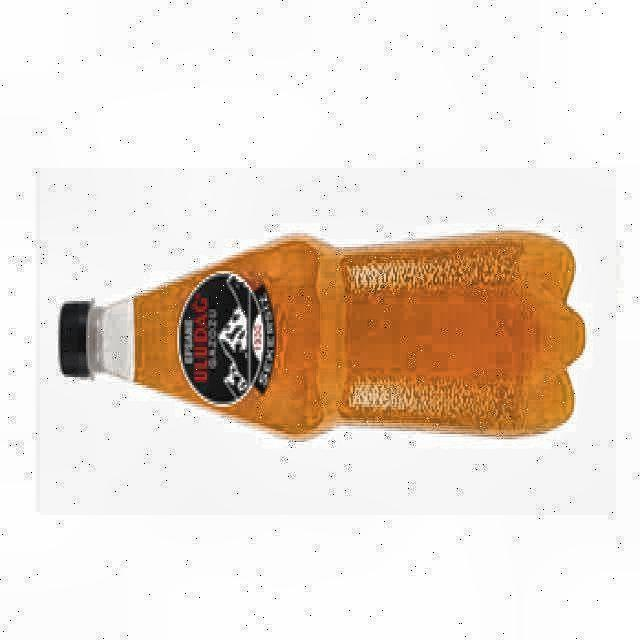plastic: (59, 231, 586, 437)
